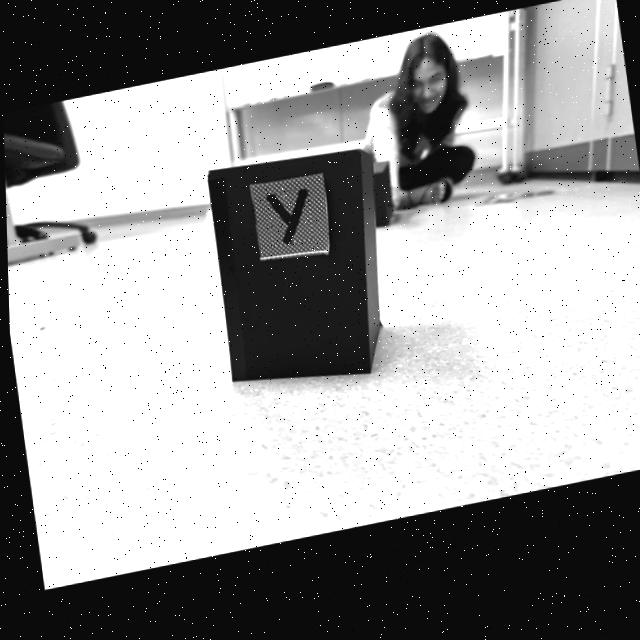Y: (266, 195, 306, 249)
